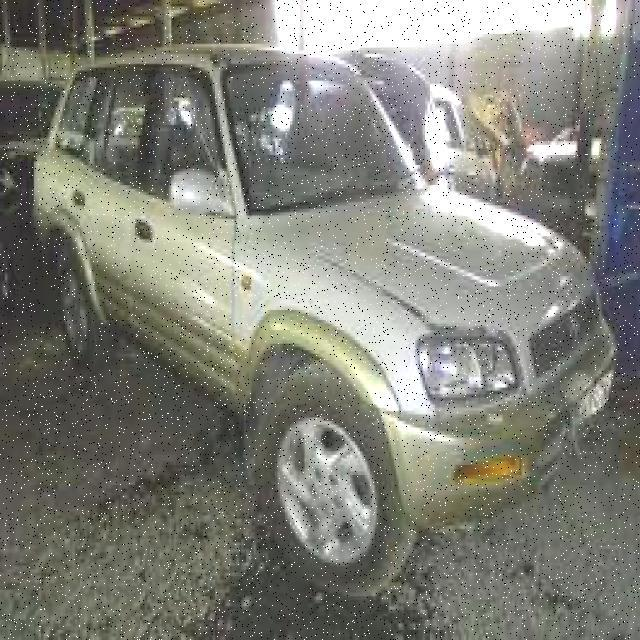car damage: (536, 378, 594, 477)
